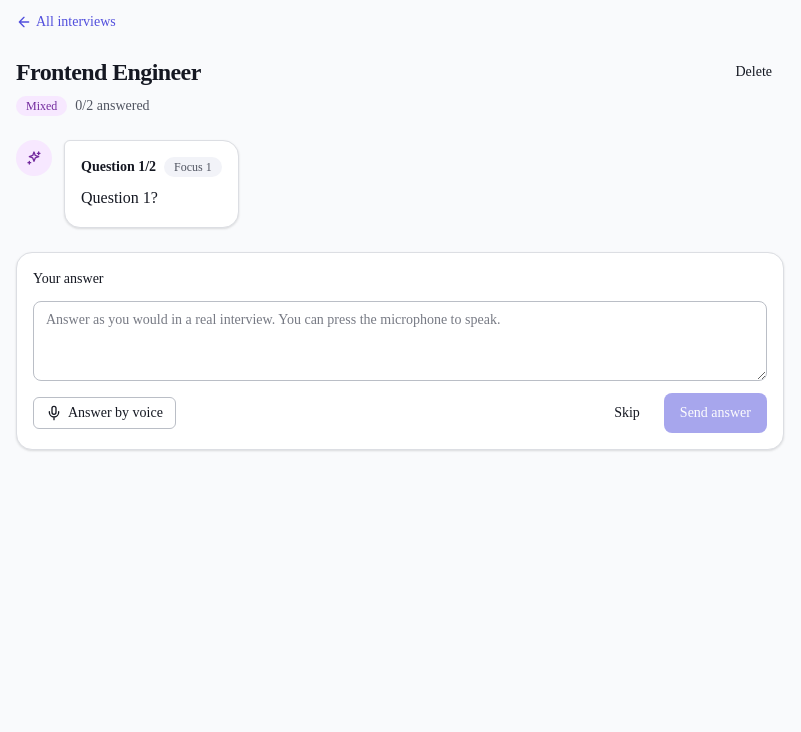
it: InterviewSessionView › sends an answer, shows the feedback and moves focus to the next question
In the text box labelled "Your answer": (400, 341) [33,301,767,381], type "I measured first."
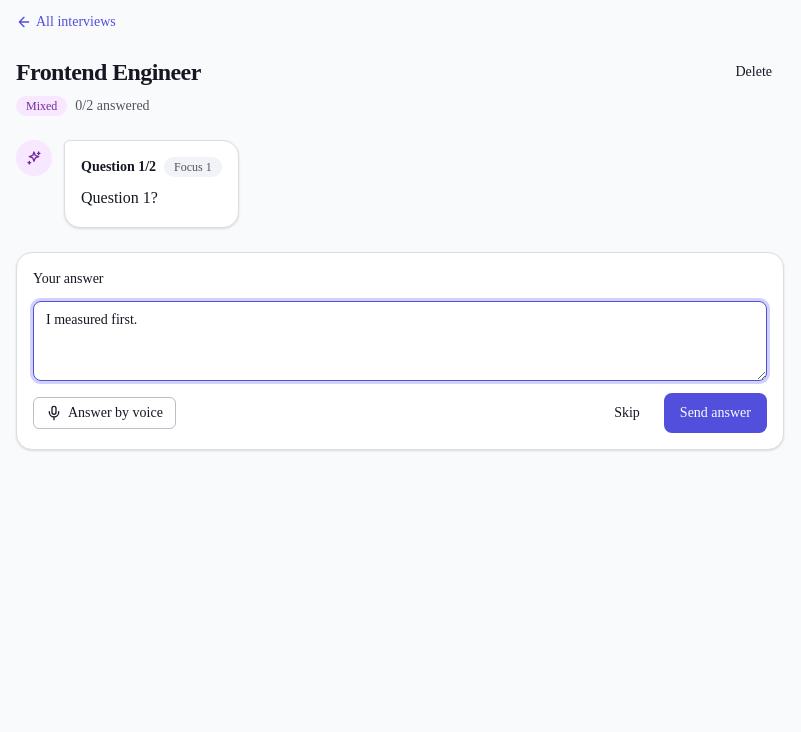
Click the button "Send answer": click(715, 413) [664,393,767,433]
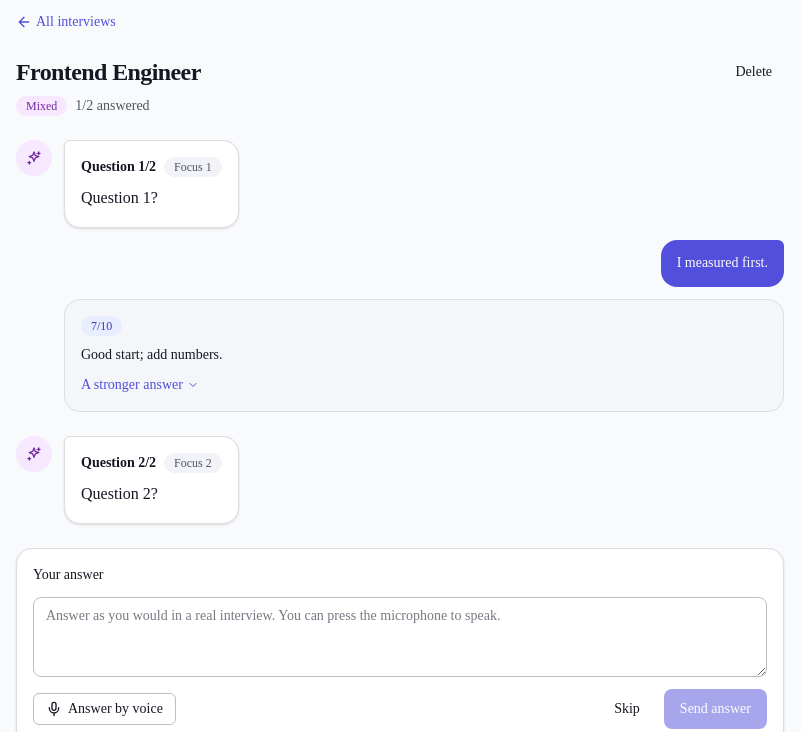
expect the text "Good start; add numbers." is shown: met, box [81,347,222,362]
expect the text box labelled "Your answer" is empty: met, box [33,596,767,676]
